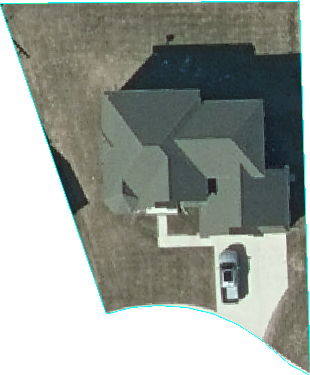house: (101, 87, 293, 232)
